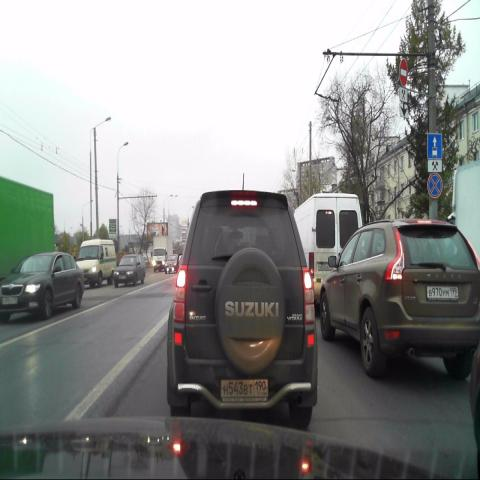5_14: (427, 132, 442, 158)
